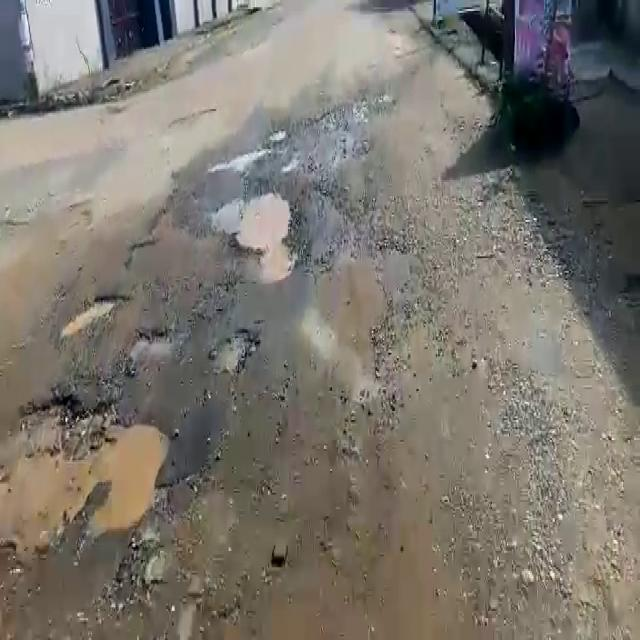Pothole: (0, 396, 169, 569), (210, 190, 296, 284), (208, 325, 262, 380), (67, 290, 131, 334)
